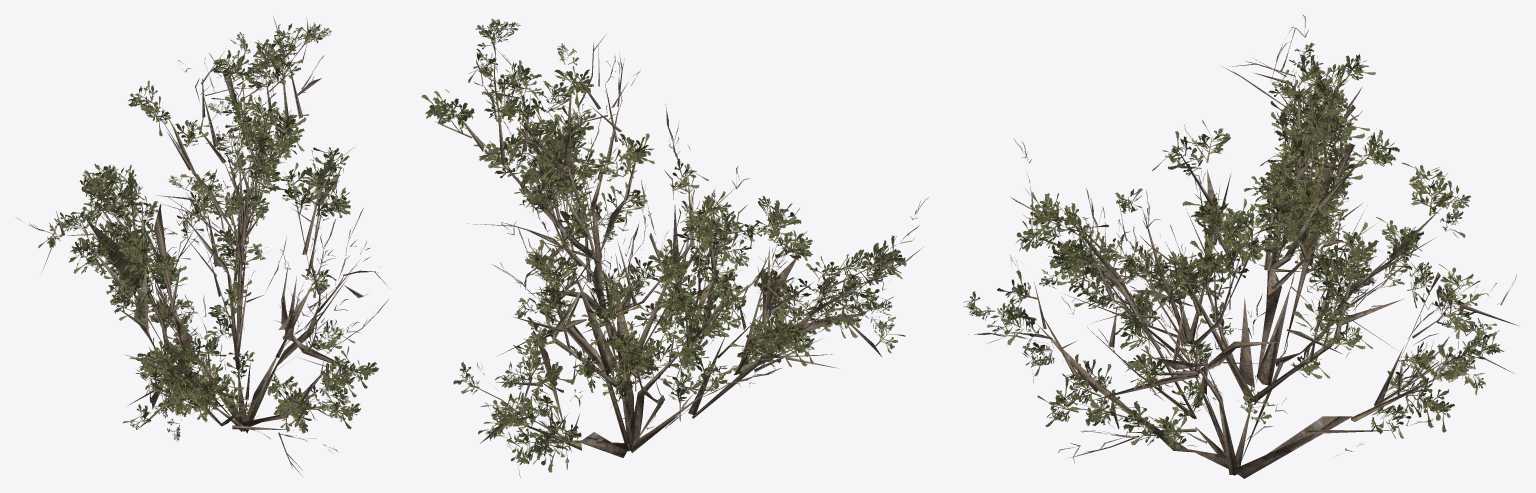
The model's file is woody-scrub.glb.
The picture shows the model from 3 angles, left to right: view 1: azimuth 30°, elevation 25°; view 2: azimuth 150°, elevation 25°; view 3: azimuth 270°, elevation 25°; orthographic projection. The views are drawn at different scales.
Parts seen in each view (by area): view 1: LOD0_1, LOD0_2, LOD0_0, LOD1_0, LOD1_2; view 2: LOD0_1, LOD0_2, LOD0_0, LOD1_0, LOD1_2; view 3: LOD0_1, LOD0_2, LOD0_0, LOD1_0, LOD1_2.
Boxes of the visible parts, x1,y1,x2,y2 form: LOD0_1: (38,22,378,441); LOD0_2: (42,18,389,476); LOD0_0: (16,16,388,451); LOD1_0: (18,21,385,440); LOD1_2: (86,43,353,426); LOD0_1: (421,18,906,477); LOD0_2: (435,25,893,457); LOD0_0: (437,53,928,451); LOD1_0: (450,54,924,441); LOD1_2: (493,44,874,457); LOD0_1: (964,42,1504,449); LOD0_2: (968,48,1519,478); LOD0_0: (977,14,1516,463); LOD1_0: (975,16,1516,450); LOD1_2: (1116,105,1417,428).
Bounding box in the file's own units: 1.27 × 1.46 × 1.65.
3 materials, 3 textured.
